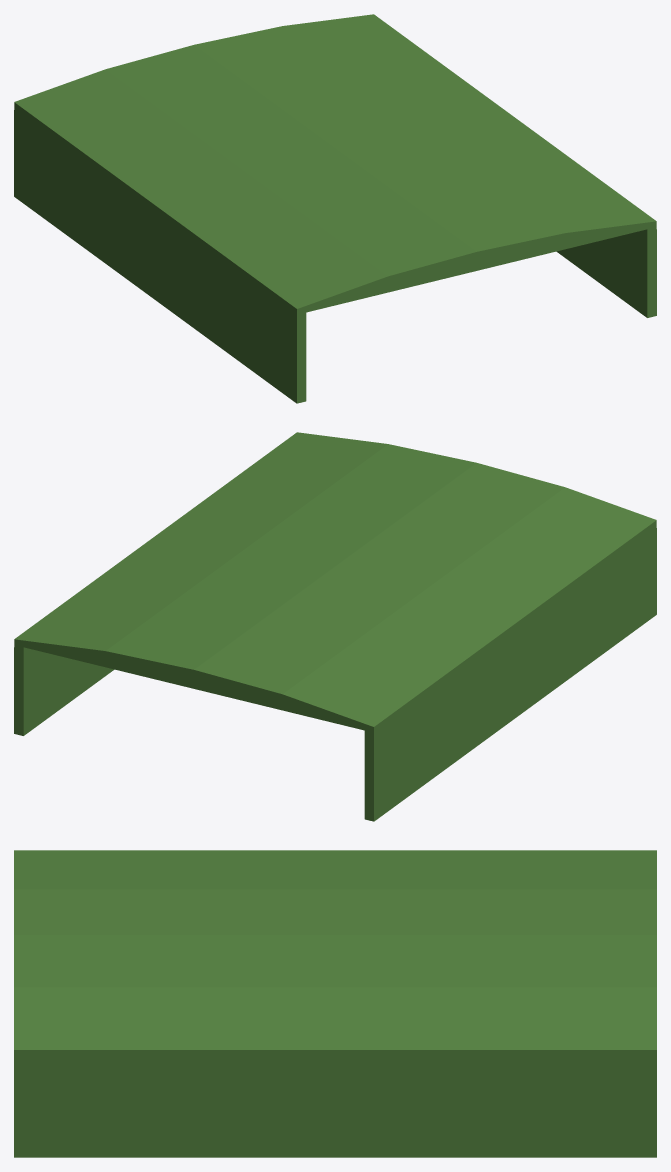
File: Itr_Bed_Single_Blanket_03.FBX
The picture shows the model from 3 angles, top to bottom: view 1: azimuth 30°, elevation 25°; view 2: azimuth 150°, elevation 25°; view 3: azimuth 270°, elevation 25°; orthographic projection. The views are drawn at different scales.
Parts seen in each view (by area): view 1: Itr_Bed_Single_Blanket_03; view 2: Itr_Bed_Single_Blanket_03; view 3: Itr_Bed_Single_Blanket_03.
Part boxes in pixels (<box>): Itr_Bed_Single_Blanket_03: <box>14,14,656,403</box>; Itr_Bed_Single_Blanket_03: <box>14,432,656,821</box>; Itr_Bed_Single_Blanket_03: <box>14,850,656,1157</box>.
Bounding box in the file's own units: 47.68 × 13.65 × 64.86.
